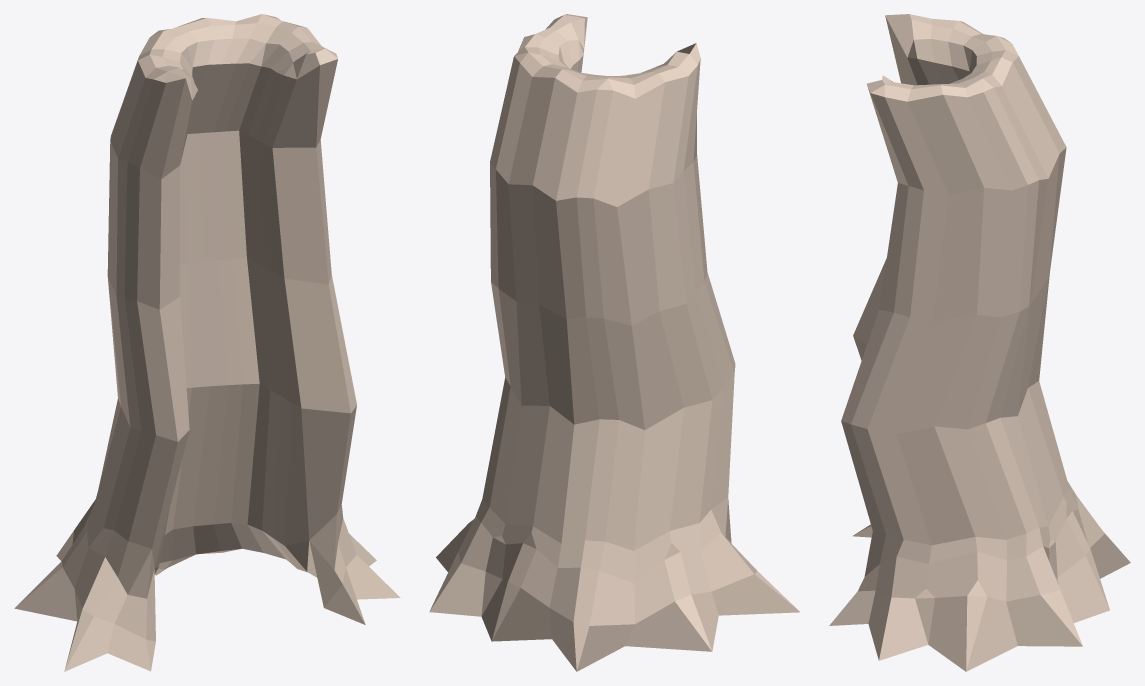
File: RunThwoughTwee_02fbx_2.fbx
3 renders of one model, left to right at view 1: azimuth 30°, elevation 25°; view 2: azimuth 150°, elevation 25°; view 3: azimuth 270°, elevation 25°, orthographic. The views are drawn at different scales.
Visible parts, largest first — view 1: treeeeeeeeeee; view 2: treeeeeeeeeee; view 3: treeeeeeeeeee.
Boxes of the visible parts, <box> form: treeeeeeeeeee: <box>14,14,400,671</box>; treeeeeeeeeee: <box>429,14,799,671</box>; treeeeeeeeeee: <box>829,14,1130,671</box>.
Bounding box in the file's own units: 362 × 573 × 282.
